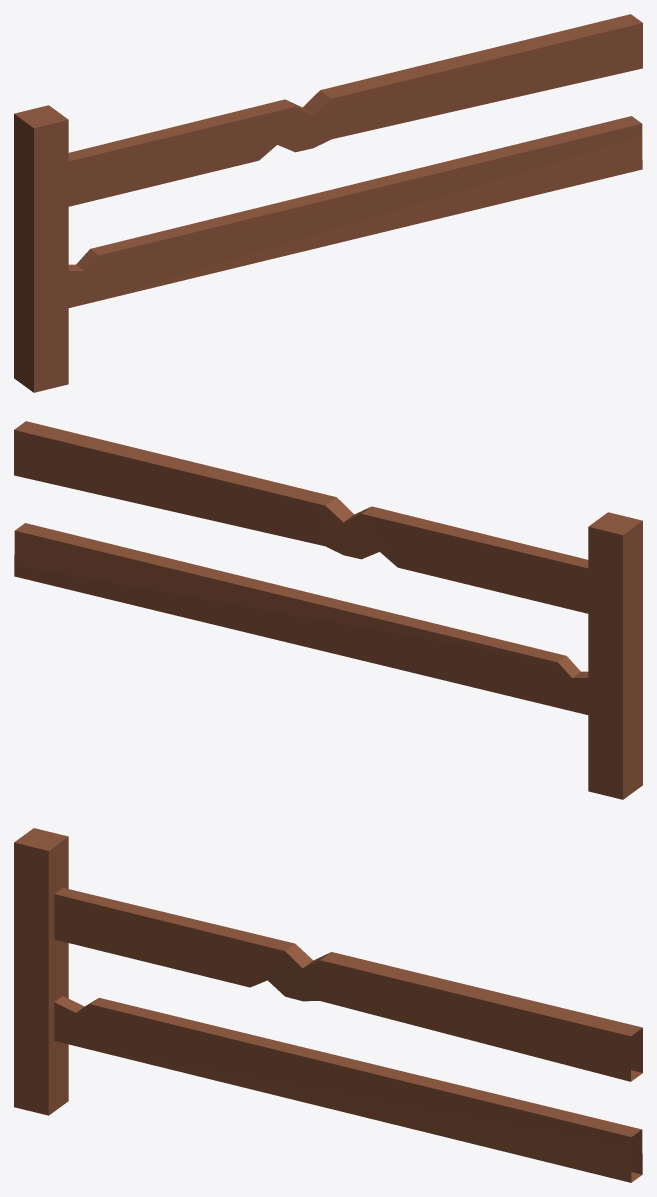
File: fence.2.close.R.glb
3 views of the same model, one above another, from view 1: azimuth 30°, elevation 25°; view 2: azimuth 150°, elevation 25°; view 3: azimuth 330°, elevation 25° (orthographic).
Visible parts, largest first — view 1: fence.2.close.R; view 2: fence.2.close.R; view 3: fence.2.close.R.
Boxes of the visible parts, x1,y1,x2,y2 form: fence.2.close.R: (14, 14, 642, 392); fence.2.close.R: (14, 421, 642, 799); fence.2.close.R: (14, 828, 642, 1182).
Size of the model in its own units: 2.95 by 1.21 by 0.1655.
